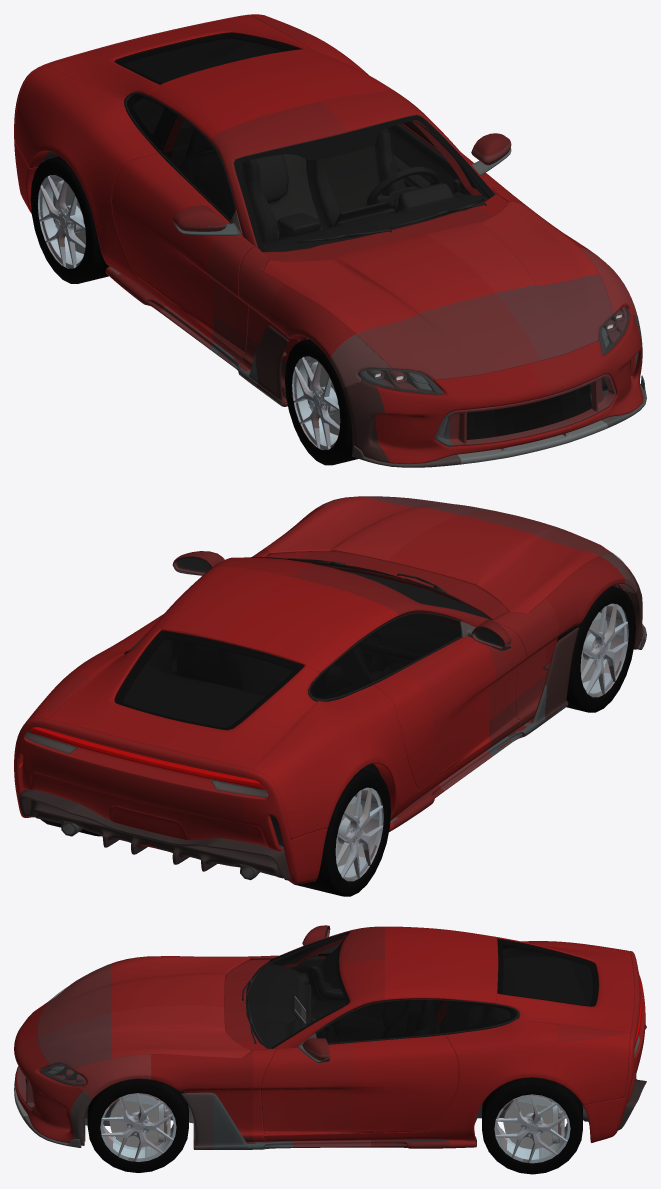
File: car.glb
3 renders of one model, top to bottom at view 1: azimuth 30°, elevation 25°; view 2: azimuth 150°, elevation 25°; view 3: azimuth 270°, elevation 25°, orthographic. The views are drawn at different scales.
Parts seen in each view (by area): view 1: body, hood, glass-windshield, front-bumper, door.r, side-fender.r, interior-roof-rear-trim, trunk, seat-back-01, glass-rear, dashboard-base, side-fender-aero.r (+22 smaller); view 2: body, rear-bumper, hood, trunk, door.r, glass-rear, side-fender.r, rear-diffusor-v2, interior-roof-rear-trim, dashboard-base, window-front.r, side-fender-aero.r (+14 smaller); view 3: body, hood, door.l, side-fender.l, glass-windshield, trunk, glass-rear, interior-roof-rear-trim, front-bumper, side-fender-aero.l, dashboard-base, window-front.l (+20 smaller).
Part boxes in pixels (<box>): body: <box>15,15,495,363</box>; hood: <box>263,201,613,380</box>; glass-windshield: <box>234,115,494,251</box>; front-bumper: <box>343,314,643,464</box>; door.r: <box>111,153,254,356</box>; side-fender.r: <box>238,246,391,398</box>; interior-roof-rear-trim: <box>124,39,490,232</box>; trunk: <box>47,15,313,105</box>; seat-back-01: <box>306,129,406,228</box>; glass-rear: <box>114,32,302,84</box>; dashboard-base: <box>263,183,488,251</box>; side-fender-aero.r: <box>105,266,288,406</box>; body: <box>19,557,520,839</box>; rear-bumper: <box>14,718,327,883</box>; hood: <box>263,496,612,613</box>; trunk: <box>47,628,319,768</box>; door.r: <box>374,622,527,789</box>; glass-rear: <box>114,630,304,730</box>; side-fender.r: <box>492,553,637,728</box>; rear-diffusor-v2: <box>18,789,290,880</box>; interior-roof-rear-trim: <box>123,640,351,727</box>; dashboard-base: <box>347,571,488,671</box>; window-front.r: <box>353,612,461,681</box>; side-fender-aero.r: <box>389,627,578,831</box>; body: <box>116,926,630,1141</box>; hood: <box>37,956,250,1068</box>; door.l: <box>260,1035,458,1135</box>; side-fender.l: <box>72,1048,275,1142</box>; glass-windshield: <box>245,932,349,1048</box>; trunk: <box>495,937,634,1032</box>; glass-rear: <box>497,938,598,1006</box>; interior-roof-rear-trim: <box>267,936,592,1053</box>; front-bumper: <box>14,1001,92,1145</box>; side-fender-aero.l: <box>181,1092,476,1149</box>; dashboard-base: <box>246,964,311,1081</box>; window-front.l: <box>316,998,448,1042</box>.
Size of the model in its own units: 2.27 by 1.35 by 4.73.
19 materials, 7 textured.
